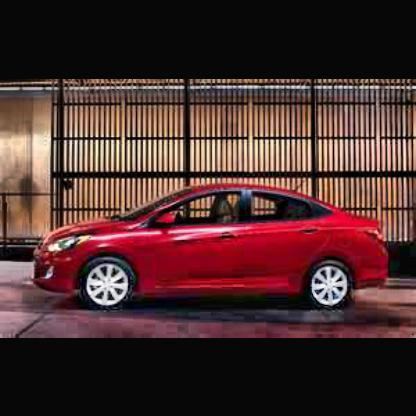Hyundai Accent Sedan 2012: (33, 183, 393, 318)
